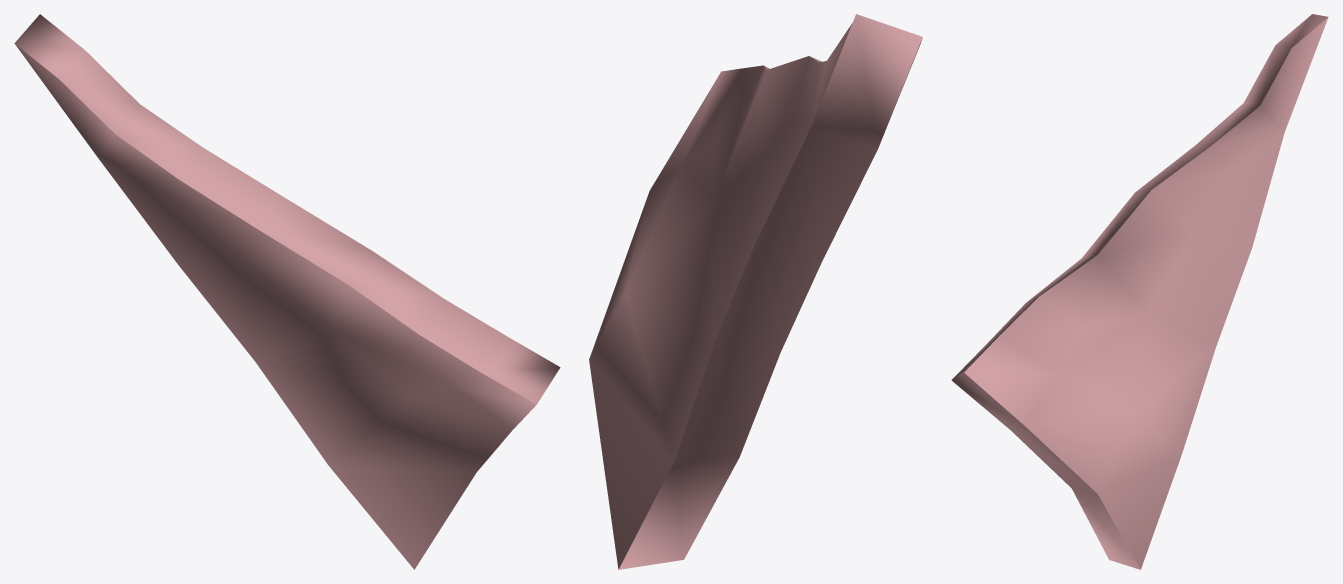
The picture shows the model from 3 angles, left to right: view 1: azimuth 30°, elevation 25°; view 2: azimuth 150°, elevation 25°; view 3: azimuth 270°, elevation 25°; orthographic projection. The views are drawn at different scales.
Parts seen in each view (by area): view 1: ZA_7bfd8810de1b0950; view 2: ZA_7bfd8810de1b0950; view 3: ZA_7bfd8810de1b0950.
Boxes of the visible parts, box(x1,y1,x2,y2) form: ZA_7bfd8810de1b0950: box(14, 14, 560, 569); ZA_7bfd8810de1b0950: box(589, 14, 922, 569); ZA_7bfd8810de1b0950: box(951, 14, 1328, 569).
Size of the model in its own units: 0.0258 by 0.0363 by 0.0281.
